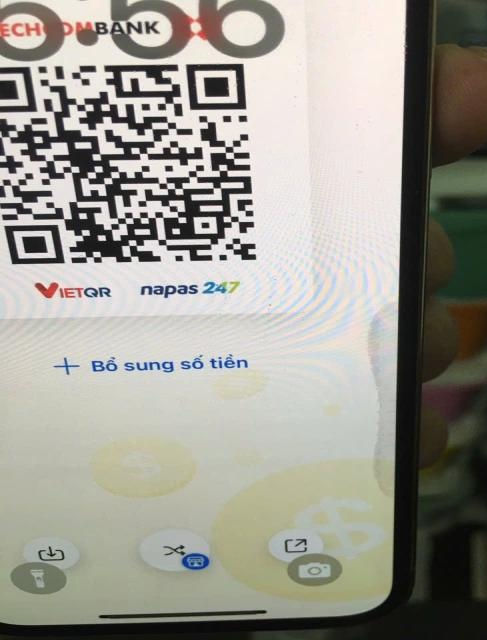screen_defect: (361, 291, 416, 507)
